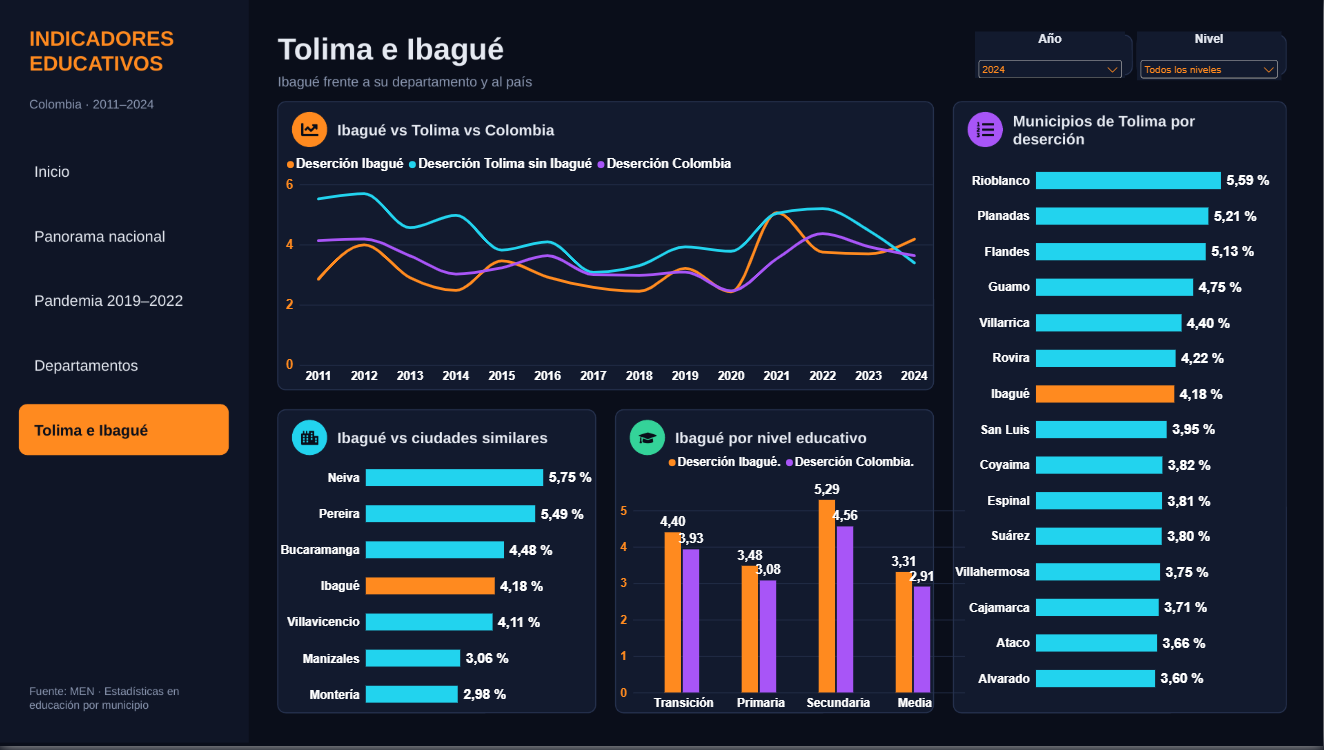

This screenshot's page, from the dashboard's own definition file:
{"tool":"powerbi","page":{"name":"Tolima e Ibague","canvas":[1920,1080],"ordinal":4},"visuals":[{"type":"slicer","title":"Año","fields":{"Values":["Datos.AÑO"]},"box":[1412.5,45,217.5,67.5],"z":0},{"type":"slicer","title":"Nivel","fields":{"Values":["Niveles.Nivel"]},"box":[1647.7,45.5,209.1,70.5],"z":1000},{"type":"actionButton","box":[32.5,195,307.5,90],"z":2000},{"type":"actionButton","box":[26.1,308.7,306.5,78.3],"z":3000},{"type":"actionButton","box":[26.1,387,306.5,93.5],"z":4000},{"type":"actionButton","box":[26.1,480.4,306.5,82.6],"z":5000},{"type":"lineChart","fields":{"Category":["Datos.AÑO"],"Y":["Datos.Deserción Ibagué","Datos.Deserción Tolima sin Ibagué","Datos.Deserción Colombia"]},"box":[397.5,207.5,970,367.5],"z":6000},{"type":"clusteredBarChart","fields":{"Category":["Datos.MUNICIPIO"],"Y":["Datos.Deserción %"]},"box":[390,637.5,485,420],"z":7000},{"type":"clusteredColumnChart","fields":{"Category":["NivelesGraf.Nivel"],"Y":["Datos.Deserción Ibagué por nivel","Datos.Deserción Colombia por nivel"]},"box":[881.9,639.9,532,421.8],"z":8000},{"type":"clusteredBarChart","fields":{"Category":["Datos.MUNICIPIO"],"Y":["Datos.Deserción %"]},"box":[1368.4,206.1,488.9,826.8],"z":9000}]}

Visuals, with their boxes in screenshot pixels (x1, y1, x2, y2), scaled from the page's 1920x1080 canvas onto the 1324x750 screenshot:
"Año" slicer: Rect(974, 31, 1124, 78)
"Nivel" slicer: Rect(1136, 32, 1280, 81)
actionButton: Rect(22, 135, 234, 198)
actionButton: Rect(18, 214, 229, 269)
actionButton: Rect(18, 269, 229, 334)
actionButton: Rect(18, 334, 229, 391)
lineChart - Datos.AÑO x Datos.Deserción Ibagué: Rect(274, 144, 943, 399)
clusteredBarChart - Datos.MUNICIPIO x Datos.Deserción %: Rect(269, 443, 603, 734)
clusteredColumnChart - NivelesGraf.Nivel x Datos.Deserción Ibagué por nivel: Rect(608, 444, 975, 737)
clusteredBarChart - Datos.MUNICIPIO x Datos.Deserción %: Rect(944, 143, 1281, 717)
